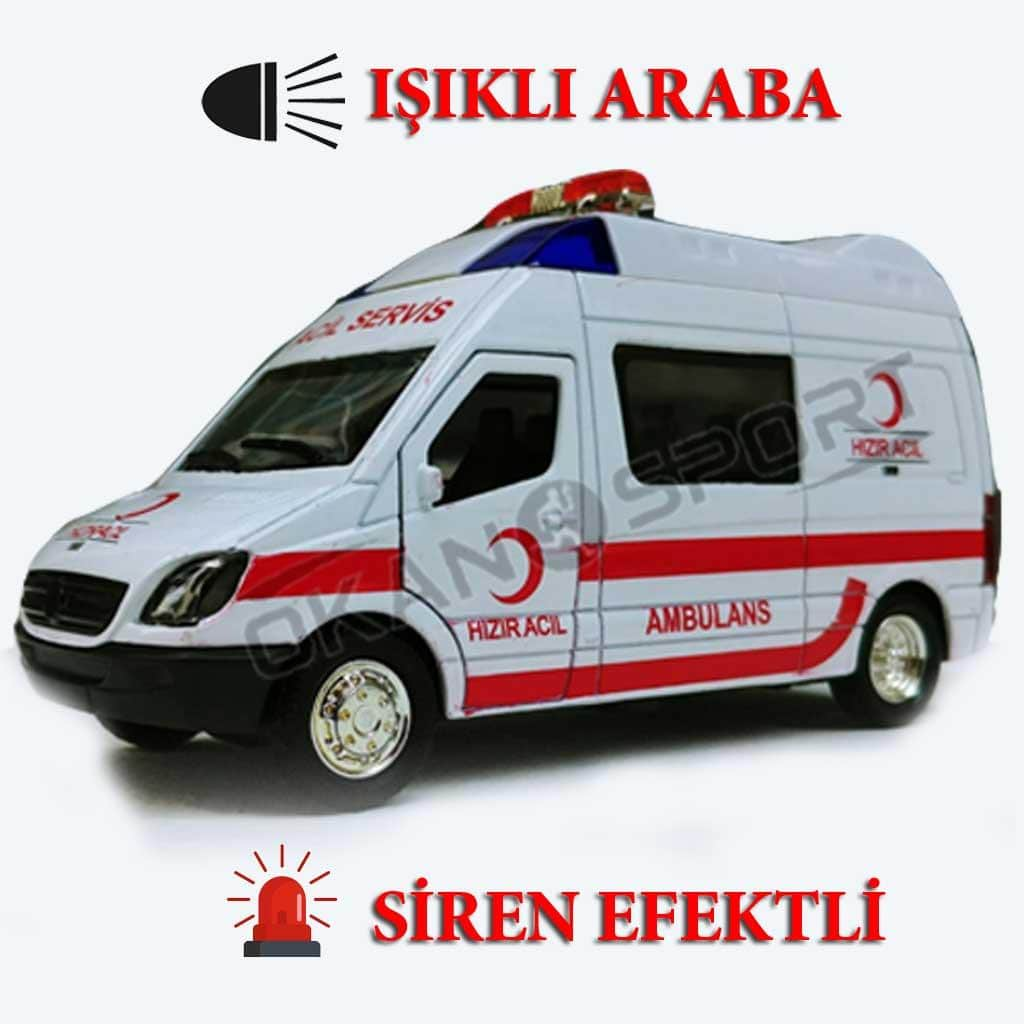ARABA: (11, 167, 1005, 816)
